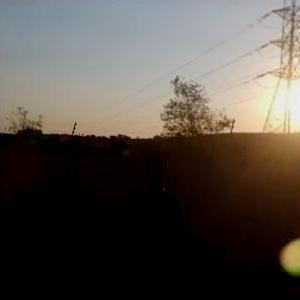follow: (118, 148, 190, 299)
